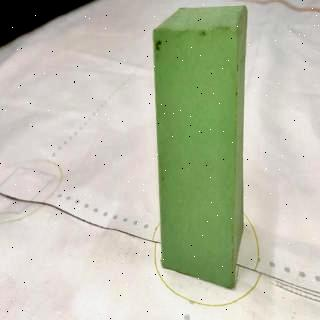greenbox: (153, 6, 244, 290)
